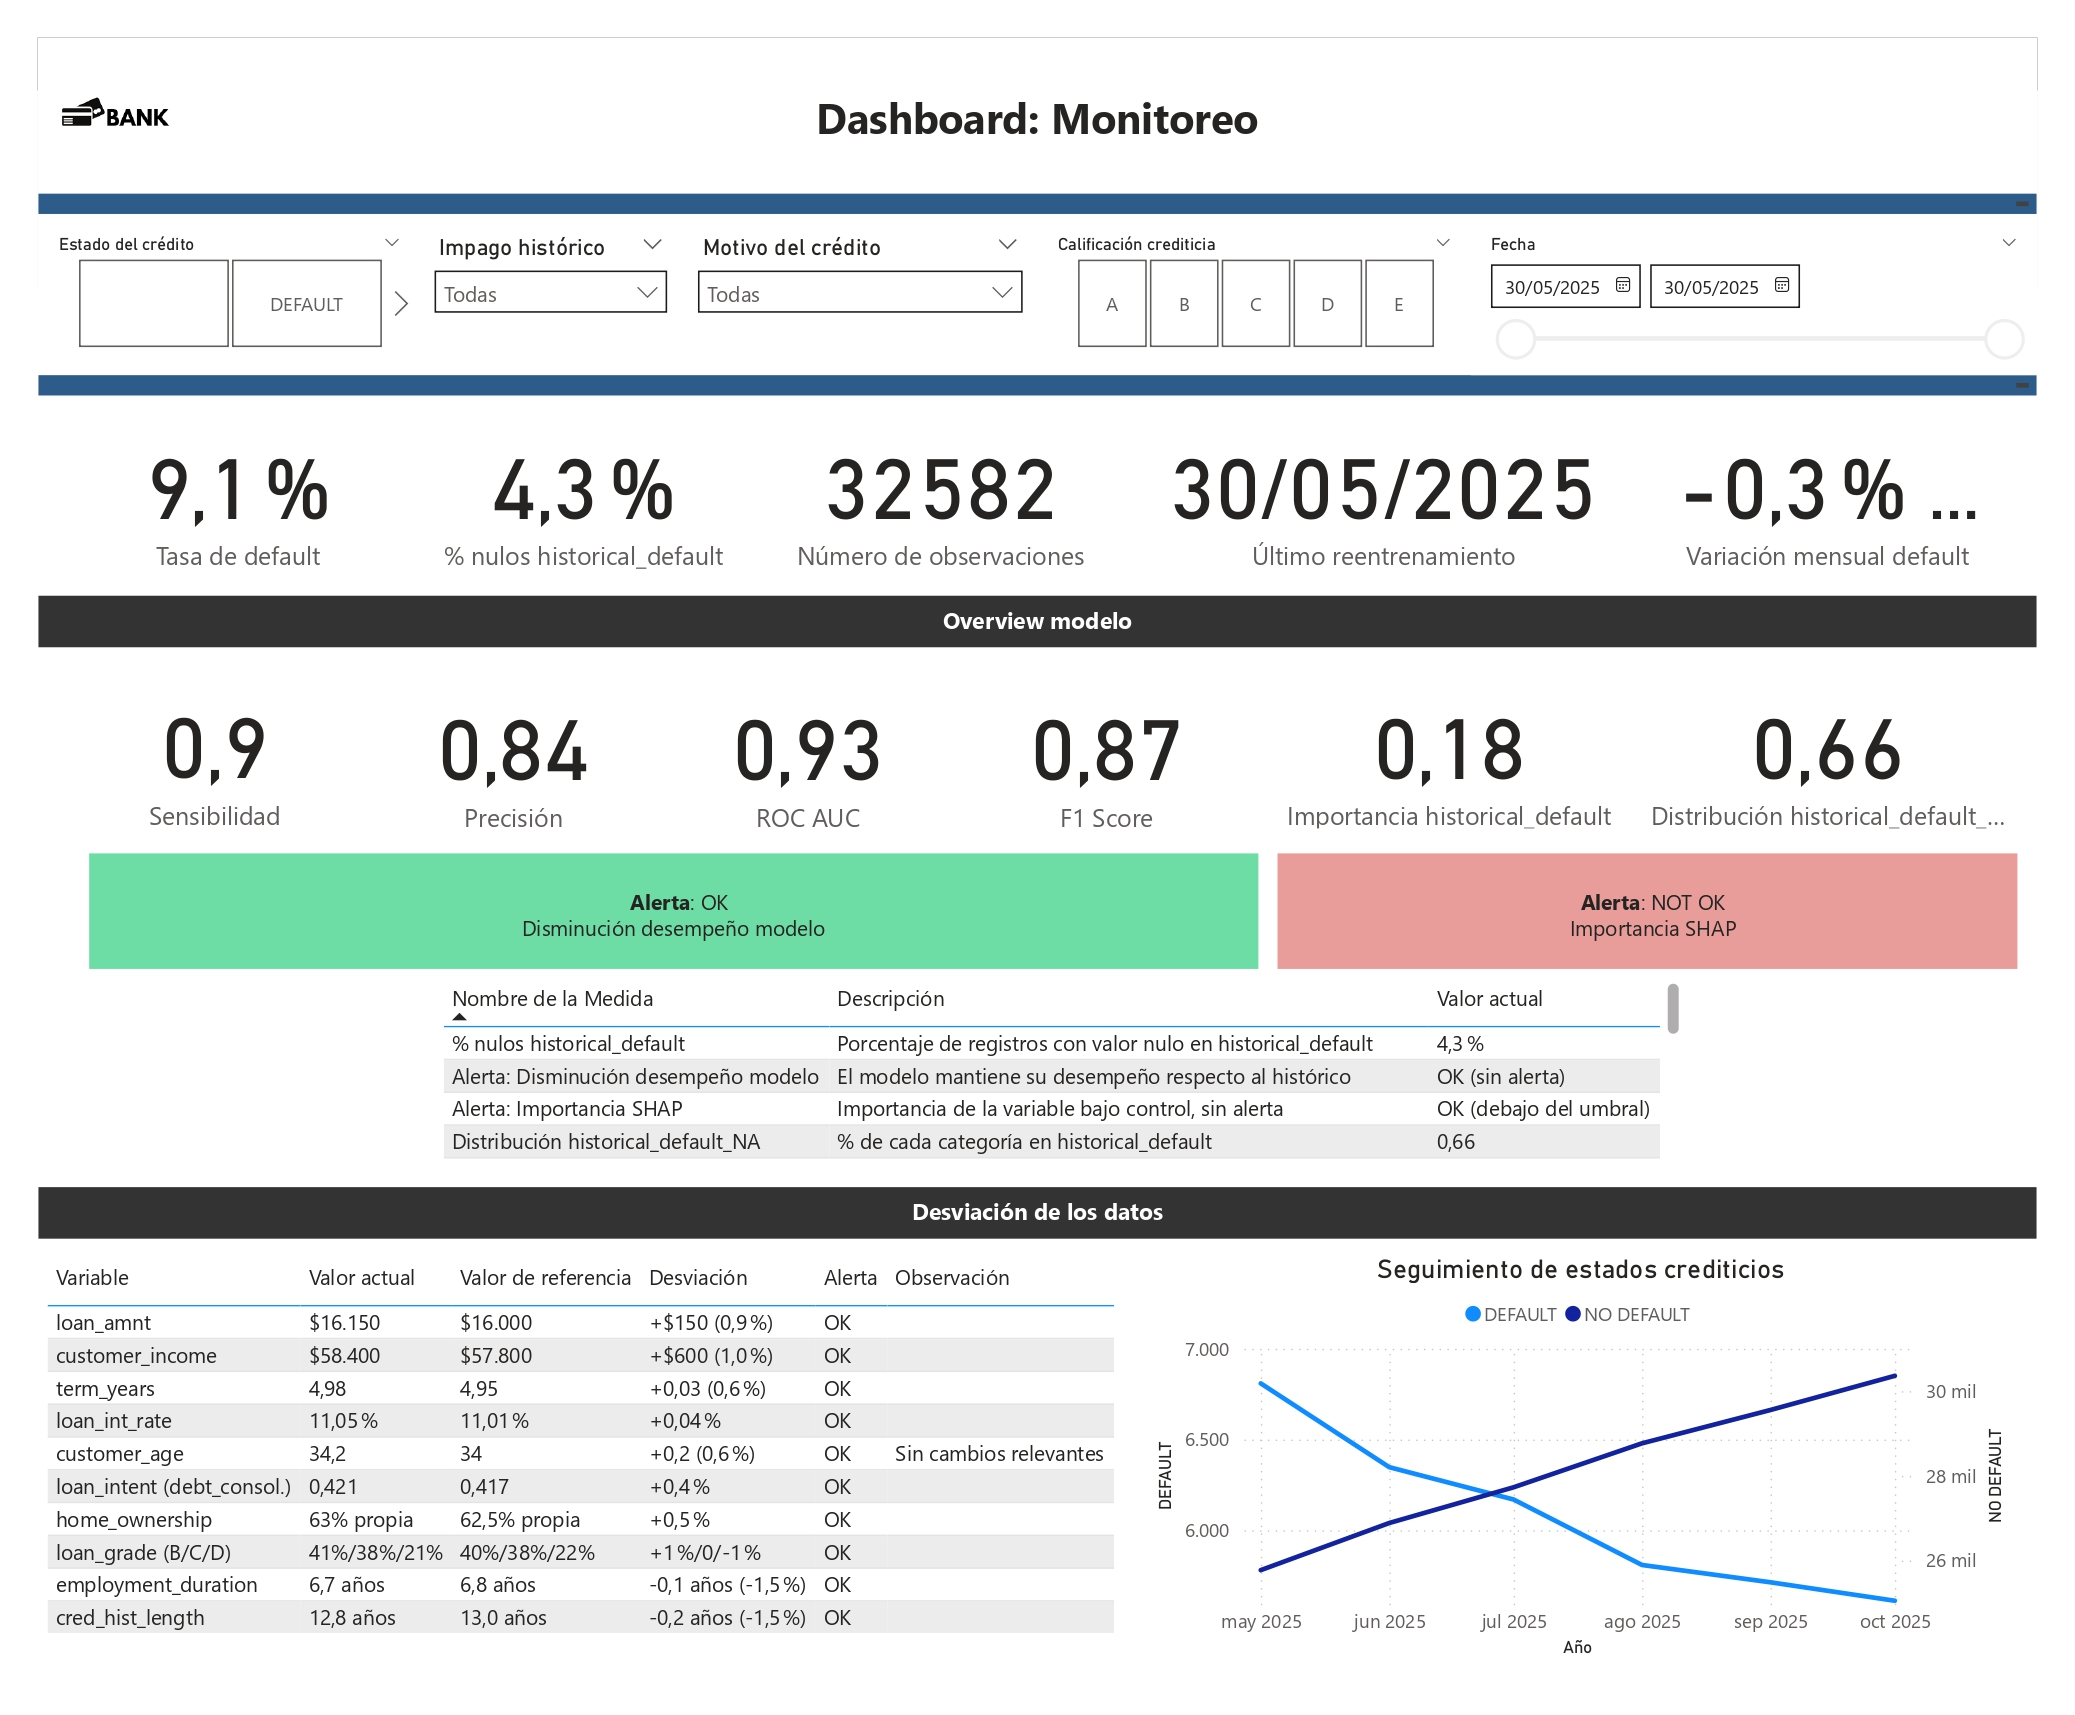

Layout of this report page (visuals, bound fields, positions):
{"tool":"powerbi","page":{"name":"Monitor","canvas":[1280,1050],"ordinal":1},"visuals":[{"type":"textbox","box":[0,27.3,1280,72.3],"z":0},{"type":"image","box":[0,0,99,99],"z":1000},{"type":"textbox","box":[0,100,1280,12.5],"z":2000},{"type":"textbox","box":[0,216.2,1280,12.5],"z":3000},{"type":"textbox","box":[0,357.5,1280,32.5],"z":4000},{"type":"card","fields":{"Values":["Min(Monitor 1.Valor actual)"]},"box":[32.7,241,191.2,103.8],"z":5000},{"type":"card","fields":{"Values":["Min(Monitor 1.Valor actual)"]},"box":[254,241,191.2,103.8],"z":6000},{"type":"card","fields":{"Values":["Min(Monitor 1.Valor actual)"]},"box":[475.3,241,206.2,103.8],"z":7000},{"type":"card","fields":{"Values":["Min(Monitor 1.Valor actual)"]},"box":[711.5,241,301.2,103.8],"z":8000},{"type":"card","fields":{"Values":["Min(Monitor 1.Valor actual)"]},"box":[1042.8,241,207.5,103.8],"z":9000},{"type":"slicer","fields":{"Values":["LoanDataset - LoansDatasest.Current_loan_status"]},"box":[0,121.2,243.8,83.8],"z":10000},{"type":"slicer","fields":{"Values":["LoanDataset - LoansDatasest.historical_default"]},"box":[243.8,121.2,168.8,83.8],"z":11000},{"type":"slicer","fields":{"Values":["LoanDataset - LoansDatasest.loan_intent"]},"box":[412.5,121.2,227.5,83.8],"z":12000},{"type":"slicer","fields":{"Values":["LoanDataset - LoansDatasest.loan_grade"]},"box":[640,121.2,277.5,83.8],"z":13000},{"type":"slicer","fields":{"Values":["LoanDataset - LoansDatasest.date"]},"box":[917.5,121.2,362.5,95],"z":14000},{"type":"card","fields":{"Values":["Min(Monitor 1.Valor actual)"]},"box":[17.5,407.7,191.2,103.8],"z":15000},{"type":"card","fields":{"Values":["Min(Monitor 1.Valor actual)"]},"box":[208.8,409,191.2,103.8],"z":16000},{"type":"card","fields":{"Values":["Min(Monitor 1.Valor actual)"]},"box":[397.5,409,191.2,103.8],"z":17000},{"type":"card","fields":{"Values":["Min(Monitor 1.Valor actual)"]},"box":[588.8,409,191.2,103.8],"z":18000},{"type":"card","fields":{"Values":["Min(Monitor 1.Valor actual)"]},"box":[780,407.7,247.5,103.8],"z":19000},{"type":"card","fields":{"Values":["Min(Monitor 1.Valor actual)"]},"box":[1027.5,407.7,237.5,103.8],"z":20000},{"type":"textbox","box":[793.3,522.5,473.8,73.8],"z":21000},{"type":"textbox","box":[32.5,522.5,748.8,73.8],"z":22000},{"type":"tableEx","fields":{"Values":["Monitor 1.Nombre de la Medida","Monitor 1.Descripción","Monitor 1.Valor actual"]},"box":[253.8,600,802.5,125],"z":23000},{"type":"textbox","box":[0,736.2,1280,32.5],"z":24000},{"type":"tableEx","fields":{"Values":["Monitor 2.Variable","Monitor 2.Valor actual","Monitor 2.Valor de referencia","Monitor 2.Desviación","Monitor 2.Alerta","Monitor 2.Observación"]},"box":[0,778.8,711.2,263.8],"z":25000},{"type":"lineChart","title":"Seguimiento de estados crediticios","fields":{"Y":["Avg(Evolutivo.DEFAULT)"],"Y2":["Sum(Evolutivo.NO DEFAULT)"],"Category":["Evolutivo.Num mes.Variación.Jerarquía de fechas.Año","Evolutivo.Num mes.Variación.Jerarquía de fechas.Trimestre","Evolutivo.Num mes.Variación.Jerarquía de fechas.Mes"]},"box":[711.2,778.8,553.8,263.8],"z":26000}]}

Visuals, with their boxes in screenshot pixels (x1, y1, x2, y2):
textbox: x1=38, y1=80, x2=2038, y2=193
image: x1=38, y1=37, x2=192, y2=192
textbox: x1=38, y1=194, x2=2038, y2=213
textbox: x1=38, y1=375, x2=2038, y2=395
textbox: x1=38, y1=596, x2=2038, y2=647
card - Min(Monitor 1.Valor actual): x1=89, y1=414, x2=387, y2=576
card - Min(Monitor 1.Valor actual): x1=434, y1=414, x2=733, y2=576
card - Min(Monitor 1.Valor actual): x1=780, y1=414, x2=1102, y2=576
card - Min(Monitor 1.Valor actual): x1=1149, y1=414, x2=1620, y2=576
card - Min(Monitor 1.Valor actual): x1=1667, y1=414, x2=1991, y2=576
slicer - LoanDataset - LoansDatasest.Current_loan_status: x1=38, y1=227, x2=418, y2=358
slicer - LoanDataset - LoansDatasest.historical_default: x1=418, y1=227, x2=682, y2=358
slicer - LoanDataset - LoansDatasest.loan_intent: x1=682, y1=227, x2=1038, y2=358
slicer - LoanDataset - LoansDatasest.loan_grade: x1=1038, y1=227, x2=1471, y2=358
slicer - LoanDataset - LoansDatasest.date: x1=1471, y1=227, x2=2038, y2=375
card - Min(Monitor 1.Valor actual): x1=65, y1=674, x2=364, y2=836
card - Min(Monitor 1.Valor actual): x1=364, y1=676, x2=662, y2=838
card - Min(Monitor 1.Valor actual): x1=659, y1=676, x2=957, y2=838
card - Min(Monitor 1.Valor actual): x1=957, y1=676, x2=1256, y2=838
card - Min(Monitor 1.Valor actual): x1=1256, y1=674, x2=1643, y2=836
card - Min(Monitor 1.Valor actual): x1=1643, y1=674, x2=2014, y2=836
textbox: x1=1277, y1=854, x2=2017, y2=969
textbox: x1=88, y1=854, x2=1258, y2=969
tableEx - Monitor 1.Nombre de la Medida x Monitor 1.Descripción: x1=434, y1=975, x2=1688, y2=1170
textbox: x1=38, y1=1187, x2=2038, y2=1238
tableEx - Monitor 2.Variable x Monitor 2.Valor actual: x1=38, y1=1254, x2=1149, y2=1666
"Seguimiento de estados crediticios" lineChart: x1=1149, y1=1254, x2=2014, y2=1666
